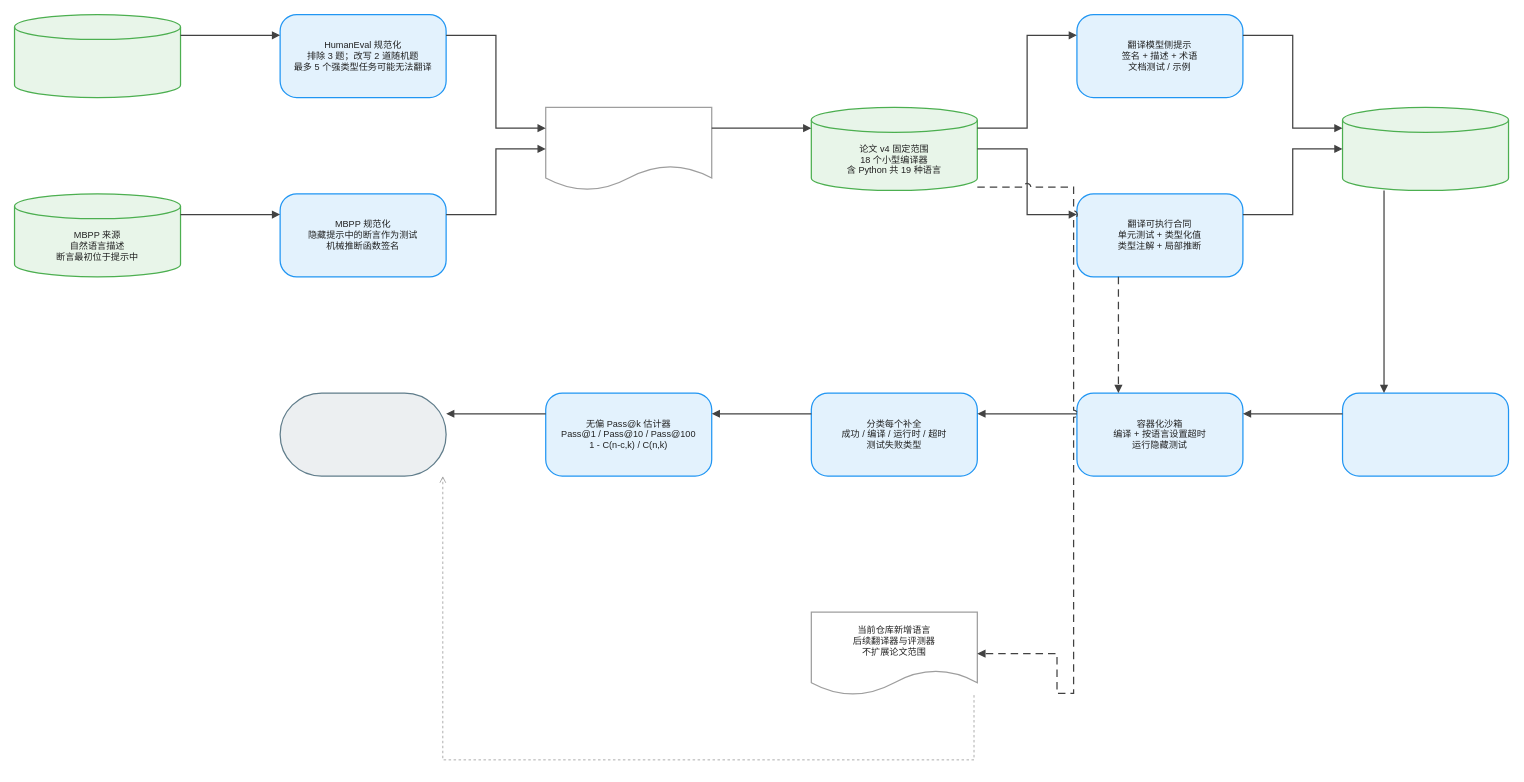
This 1524x782 diagram has some shape labels left out. Here are the shapes that lost their labels. From the top down, the centre of each, then its label:
At pixel 97 56: "HumanEval 来源 164 道 Python 题 提示 + 隐藏单元测试".
At pixel 628 148: "规范化 Python 合同 函数提示 + 隐藏测试 不翻译函数体".
At pixel 1425 148: "并行基准套件 MultiPL-HumanEval + MultiPL-MBPP 目标语言提示与测试".
At pixel 362 434: "MultiPL-E 结果 执行式跨语言准确率 论文范围保持 19 种语言".
At pixel 1425 434: "每题 200 个补全 T=0.2 用于 Pass@1 T=0.8 用于 Pass@10 与 Pass@100".
